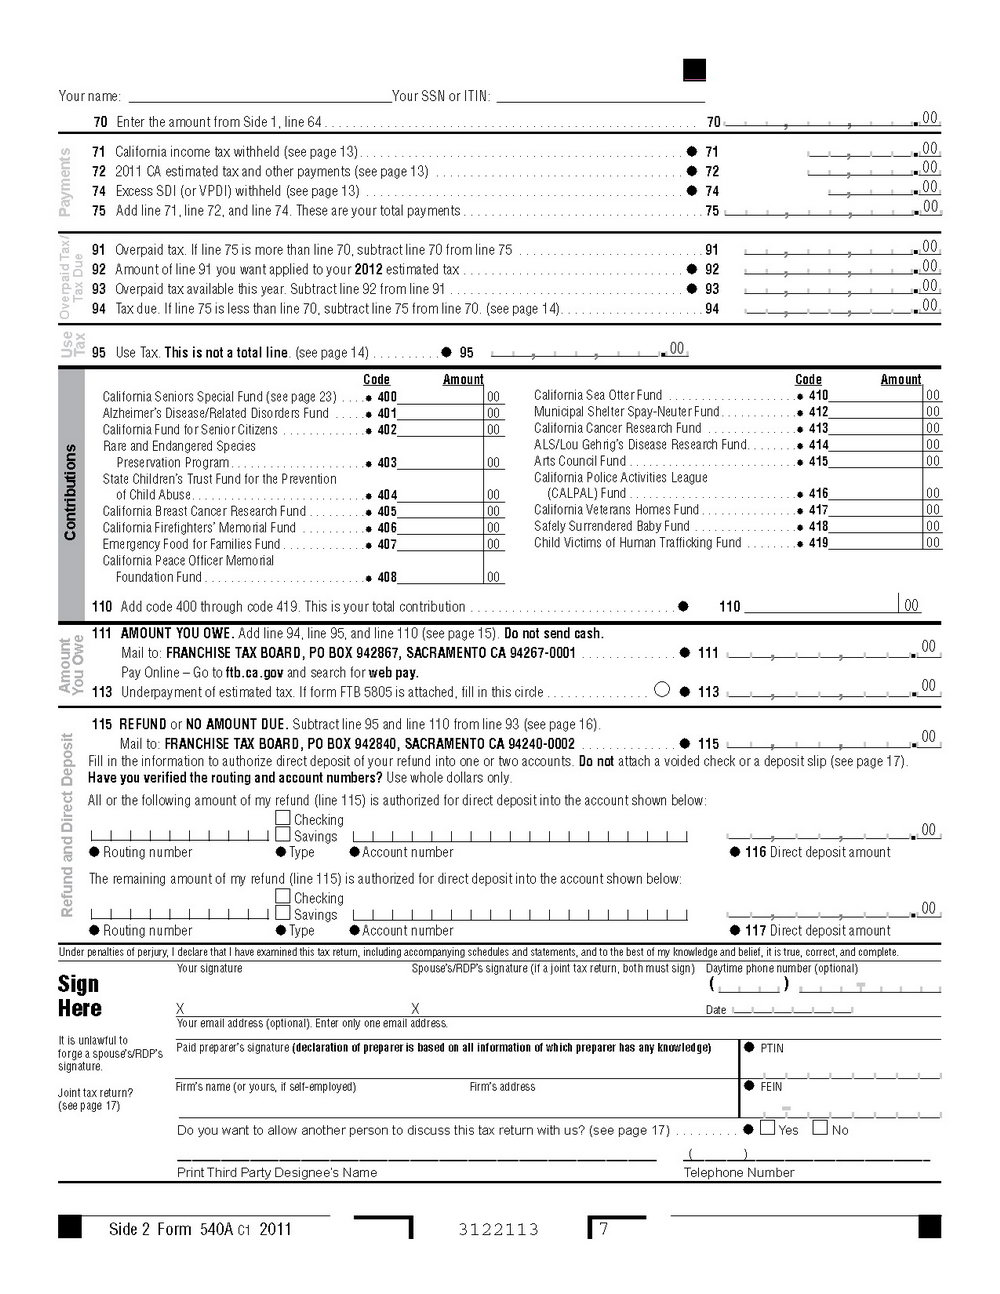checkbox: (808, 1116, 832, 1138), (756, 1116, 780, 1136), (270, 807, 294, 827), (270, 823, 294, 843), (270, 884, 294, 904), (270, 901, 294, 921)
textbox: (170, 1035, 743, 1083), (171, 1073, 467, 1122), (466, 1072, 742, 1123), (732, 1035, 949, 1083), (734, 1074, 951, 1122), (394, 430, 488, 473), (393, 463, 487, 506), (396, 545, 489, 588), (826, 463, 926, 503), (396, 513, 489, 537), (395, 498, 488, 522), (825, 400, 928, 421), (824, 416, 926, 437), (824, 432, 926, 453), (824, 448, 926, 469), (824, 498, 926, 519), (824, 514, 926, 535), (824, 530, 926, 551), (395, 530, 488, 554), (826, 383, 928, 404), (396, 400, 486, 422), (396, 417, 486, 439), (397, 385, 487, 406)
textline: (171, 1139, 663, 1164), (170, 1025, 944, 1041), (349, 898, 692, 925), (347, 820, 692, 846), (721, 631, 950, 665), (408, 996, 710, 1020), (718, 669, 950, 700), (123, 83, 395, 108), (678, 1139, 939, 1164), (721, 894, 947, 922), (721, 727, 951, 752), (718, 818, 949, 843), (718, 104, 947, 129), (484, 334, 695, 360), (170, 997, 409, 1019), (720, 196, 946, 220), (491, 84, 712, 107), (84, 819, 272, 844), (84, 897, 272, 922), (737, 234, 945, 256), (736, 255, 944, 277), (737, 274, 945, 296), (739, 295, 947, 317), (739, 590, 904, 615), (796, 973, 947, 997), (800, 139, 945, 159), (800, 158, 945, 178), (724, 998, 883, 1016), (819, 178, 945, 197), (714, 972, 785, 994)
